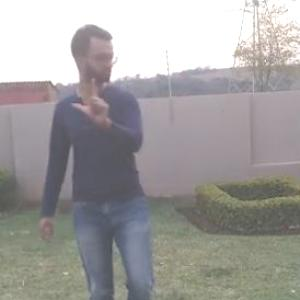land_hand: (71, 72, 112, 128)
